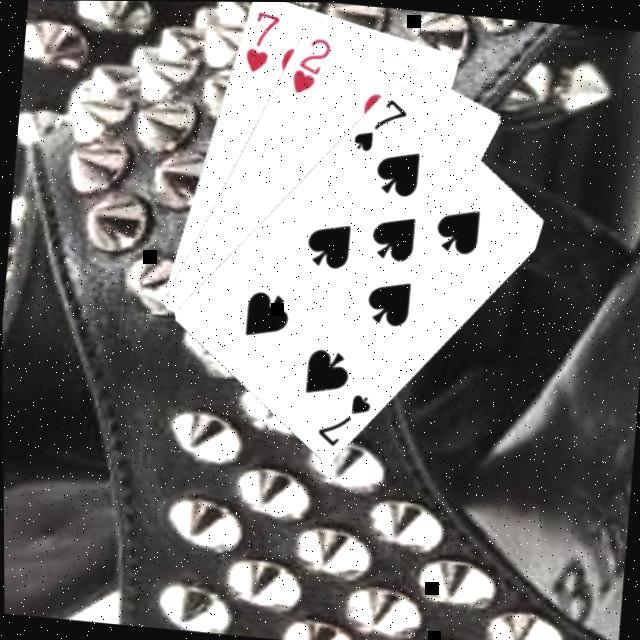2H: (284, 32, 333, 100)
7H: (237, 7, 281, 78)
7S: (346, 91, 409, 158), (309, 387, 372, 454)
